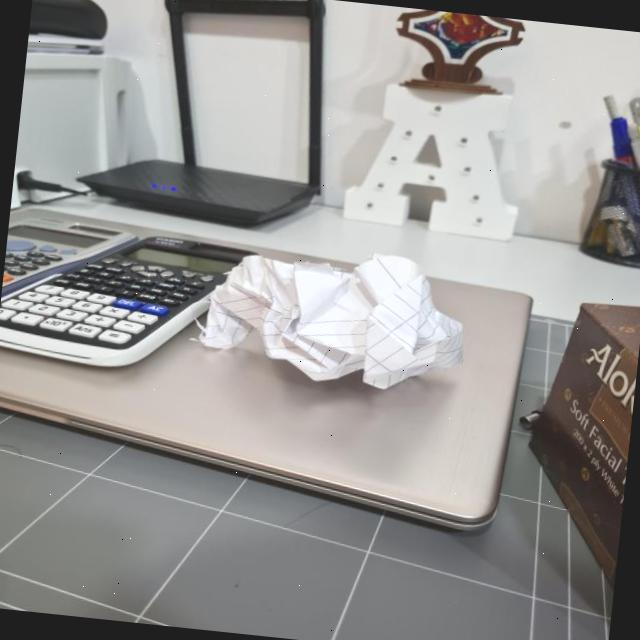trash: (198, 235, 466, 404)
